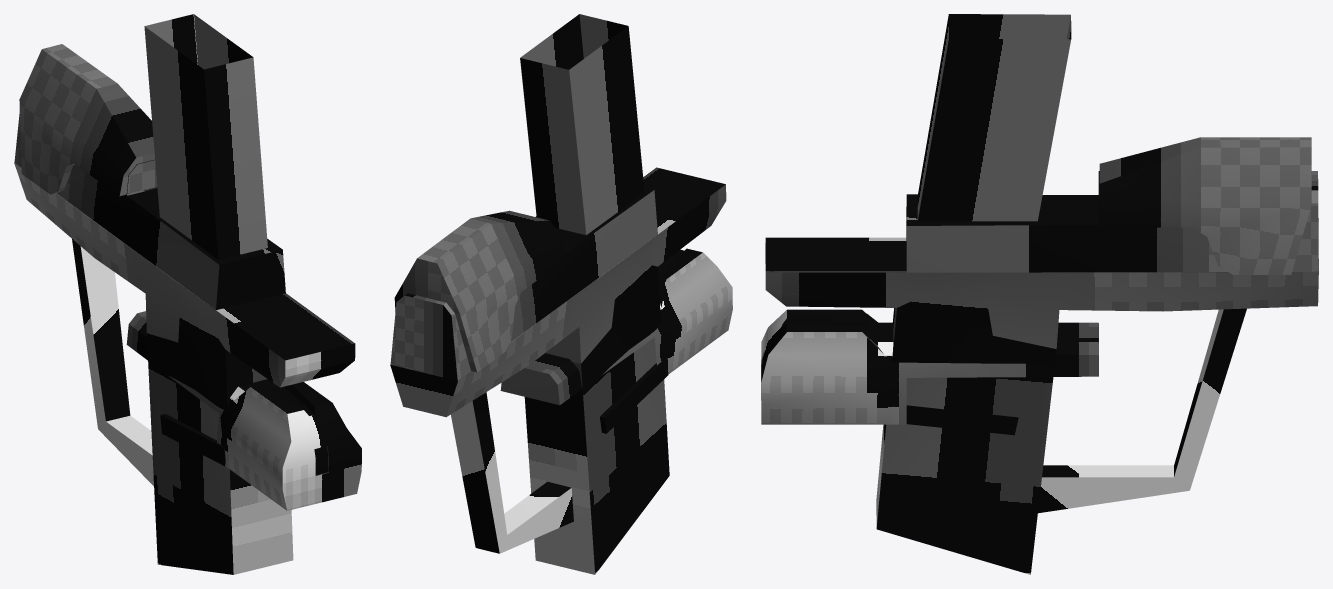
The model's file is PistolMK2.FBX.
3 views of the same model, side by side, from view 1: azimuth 30°, elevation 25°; view 2: azimuth 150°, elevation 25°; view 3: azimuth 270°, elevation 25° (orthographic). The views are drawn at different scales.
Parts seen in each view (by area): view 1: Pistol, Magazine001, Slide; view 2: Pistol, Magazine001, Slide; view 3: Pistol, Magazine001, Slide.
Part boxes in pixels (<box>): Pistol: <box>14,44,355,574</box>; Magazine001: <box>144,14,267,466</box>; Slide: <box>126,311,361,510</box>; Pistol: <box>390,167,726,574</box>; Magazine001: <box>520,14,668,433</box>; Slide: <box>500,248,732,405</box>; Pistol: <box>765,137,1318,574</box>; Magazine001: <box>906,14,1071,435</box>; Slide: <box>761,309,1098,424</box>.
Size of the model in its own units: 82.65 by 483 by 510.
Materials: 1 (1 with a texture image).
